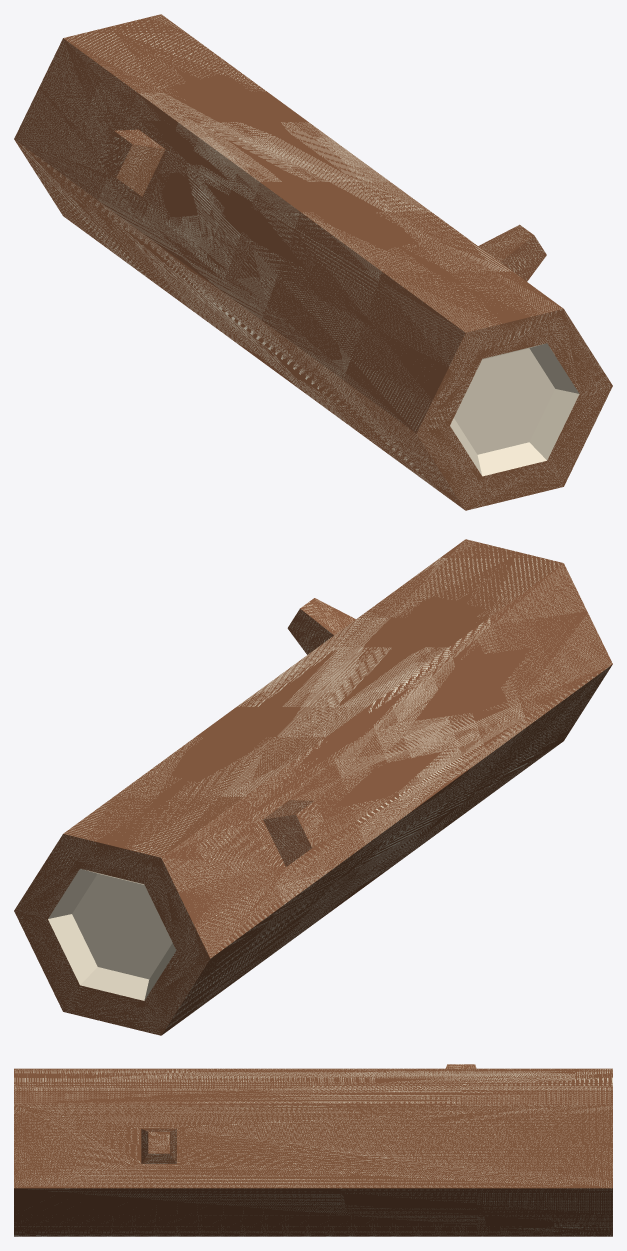
Rendered from log.glb.
The picture shows the model from 3 angles, top to bottom: view 1: azimuth 30°, elevation 25°; view 2: azimuth 150°, elevation 25°; view 3: azimuth 270°, elevation 25°; orthographic projection. The views are drawn at different scales.
Parts seen in each view (by area): view 1: log; view 2: log; view 3: log.
Part boxes in pixels (bbox=[...]): log: bbox=[14, 14, 612, 510]; log: bbox=[14, 539, 612, 1035]; log: bbox=[14, 1064, 612, 1236].
Size of the model in its own units: 0.3743 by 0.2771 by 1.14.
